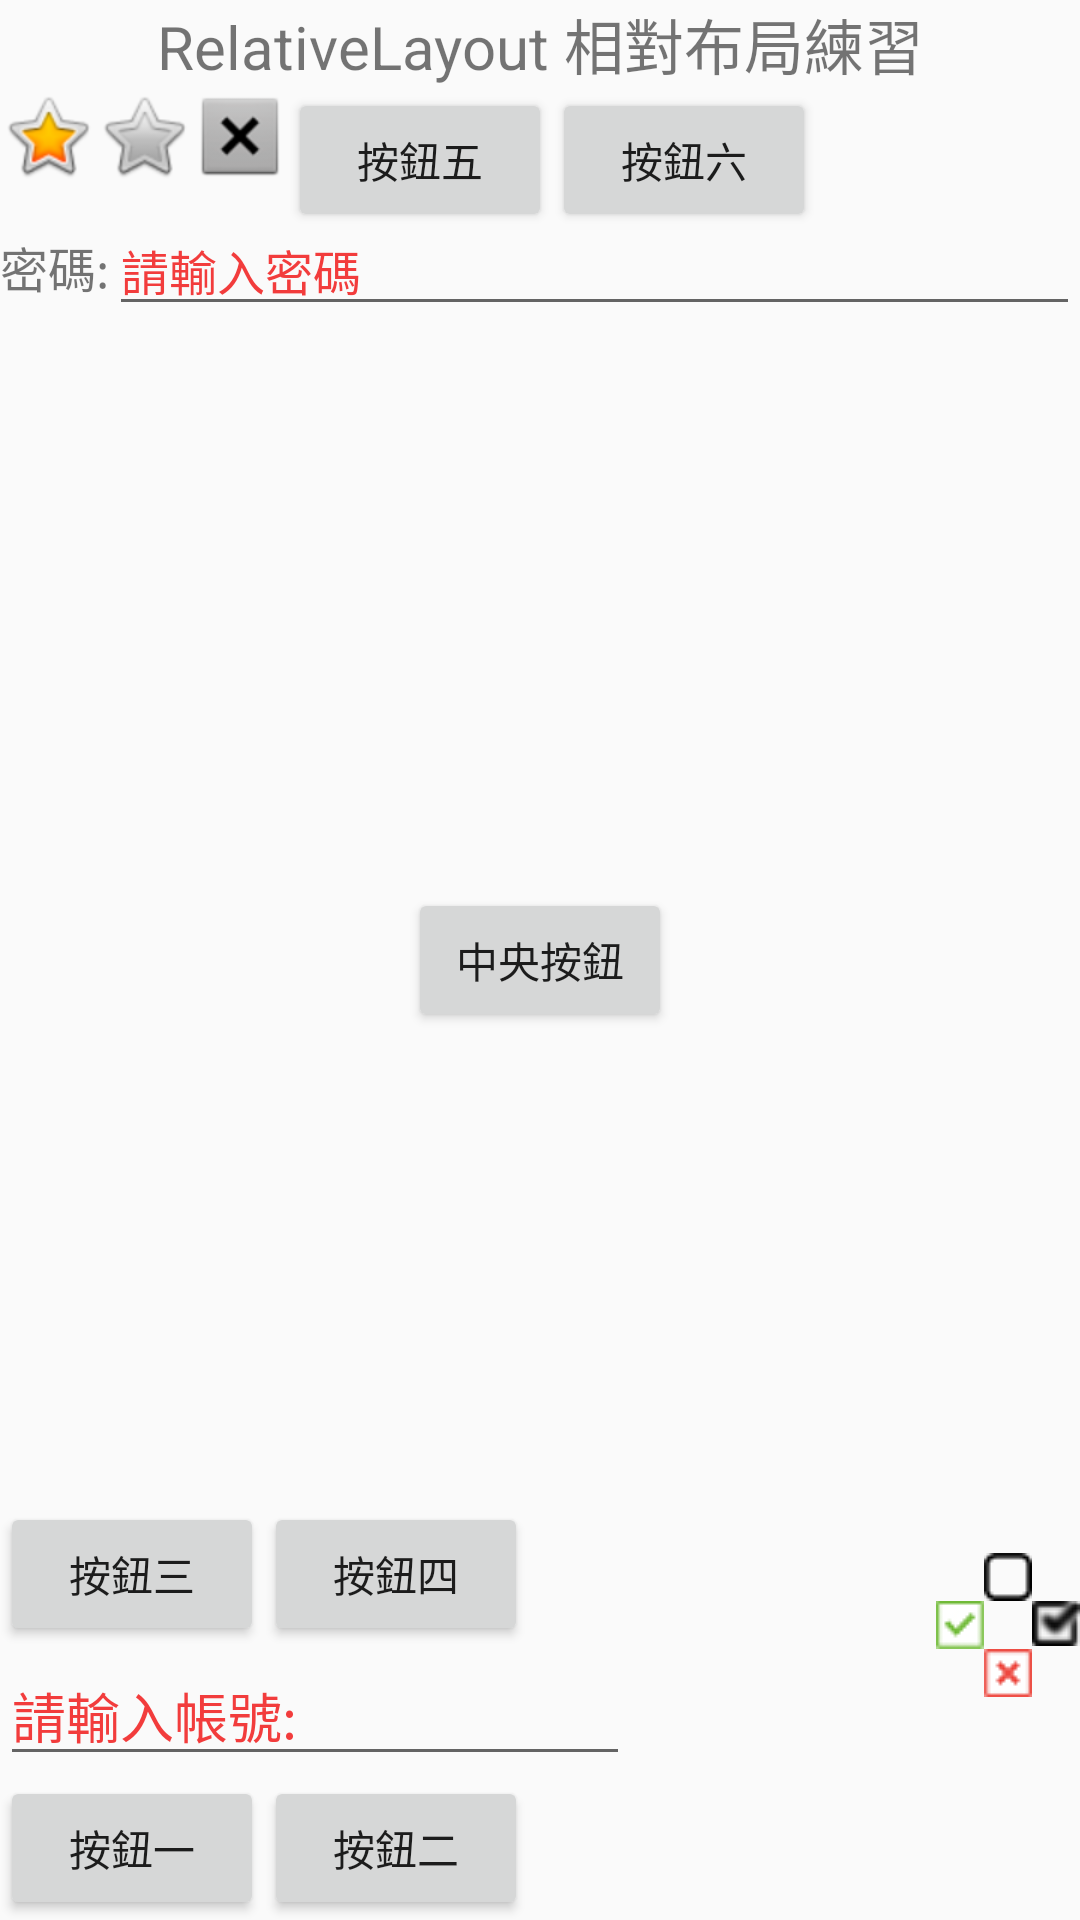

Screen size 1080×1920. Icon name, then its box in pixels as (x1, y1, x2, y2):
check: (936, 1601, 984, 1649), (1032, 1601, 1080, 1646)
star off: (105, 98, 185, 176)
star on: (9, 98, 89, 176)
uncheck: (984, 1553, 1032, 1601), (984, 1649, 1032, 1697)
